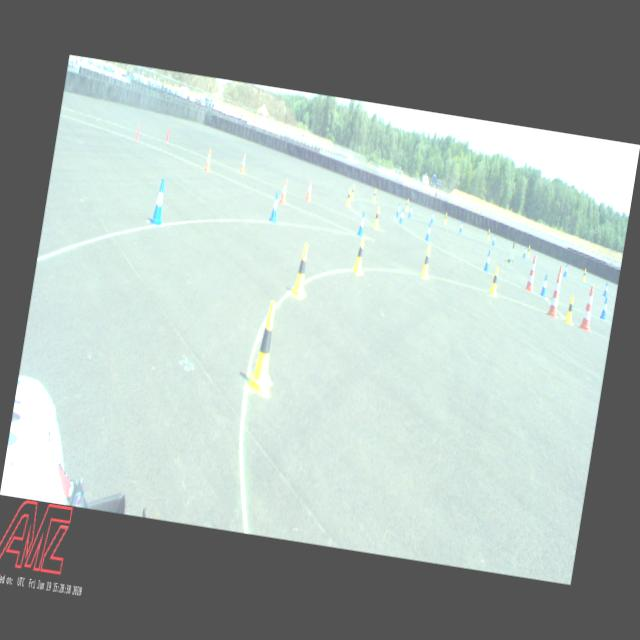blue_cone: (148, 178, 168, 225), (269, 191, 281, 223), (356, 210, 366, 237), (600, 298, 609, 320), (540, 274, 548, 297), (484, 250, 492, 272), (425, 223, 432, 241), (399, 208, 405, 224), (603, 282, 609, 297), (396, 203, 401, 218), (492, 233, 497, 246), (408, 205, 413, 218), (459, 220, 464, 232), (430, 212, 435, 224), (522, 245, 526, 258), (564, 264, 568, 276)
large_orange_cone: (580, 286, 596, 332), (548, 276, 562, 317), (525, 255, 539, 292), (552, 266, 564, 302)
orange_cone: (280, 179, 288, 204), (205, 148, 212, 172), (305, 180, 313, 200), (240, 154, 247, 172)
unknown_cone: (134, 122, 142, 142), (164, 126, 172, 144)
yellow_cone: (247, 300, 282, 396), (292, 242, 312, 298), (352, 236, 368, 274), (420, 246, 432, 278), (564, 295, 576, 324), (489, 268, 500, 296), (374, 206, 382, 228), (346, 188, 352, 206), (350, 184, 356, 199), (582, 269, 588, 281), (373, 188, 377, 202), (486, 229, 491, 240), (444, 212, 448, 224), (406, 199, 410, 211), (527, 246, 531, 256)
